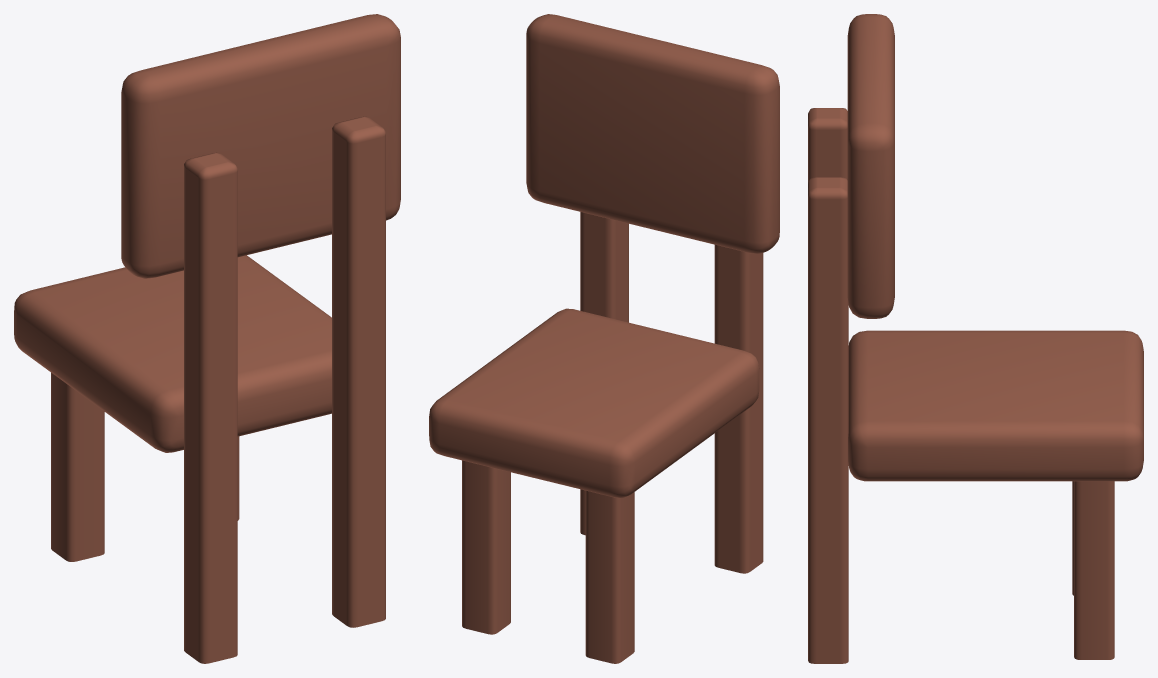
File: ChairKitchen.FBX
3 views of the same model, side by side, from view 1: azimuth 30°, elevation 25°; view 2: azimuth 150°, elevation 25°; view 3: azimuth 270°, elevation 25° (orthographic). The views are drawn at different scales.
Parts seen in each view (by area): view 1: ChairKitchen; view 2: ChairKitchen; view 3: ChairKitchen.
Part boxes in pixels (x1,y1,x2,y2): ChairKitchen: (14, 14, 400, 663); ChairKitchen: (429, 14, 779, 663); ChairKitchen: (808, 14, 1143, 663).
Bounding box in the file's own units: 9.19 × 18.66 × 10.33.
